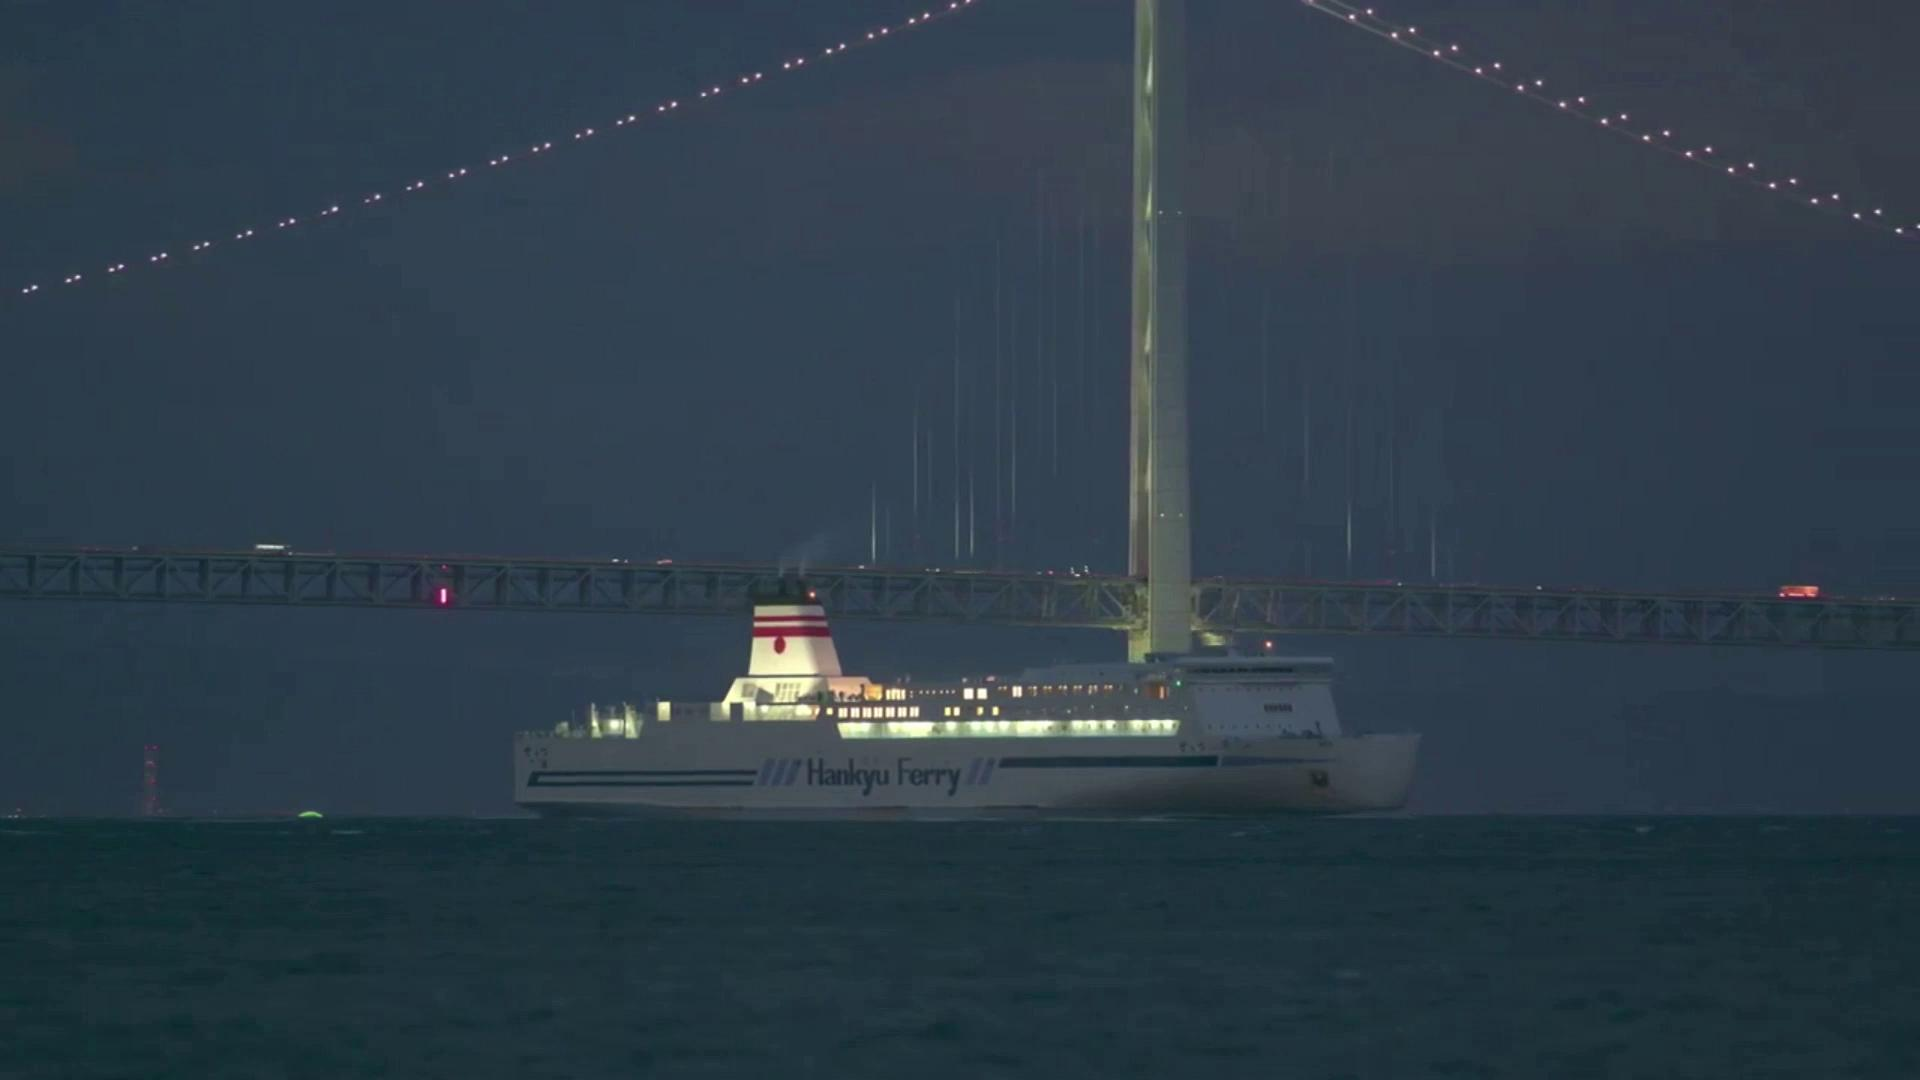OCR: (798, 746, 971, 803)
